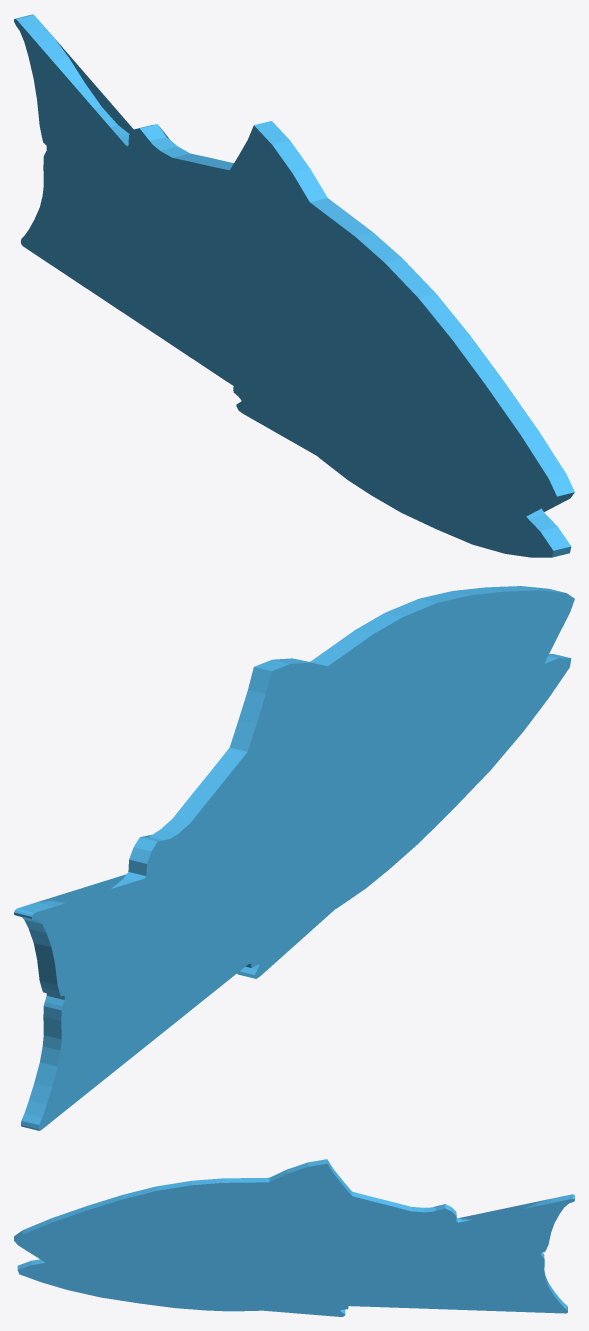
Rendered from salmon.fbx.
3 views of the same model, one above another, from view 1: azimuth 30°, elevation 25°; view 2: azimuth 150°, elevation 25°; view 3: azimuth 270°, elevation 25° (orthographic). The views are drawn at different scales.
Parts seen in each view (by area): view 1: Plan.008; view 2: Plan.008; view 3: Plan.008.
Part boxes in pixels (left/top/right/bottom): Plan.008: left=14, top=14, right=574, bottom=557; Plan.008: left=14, top=586, right=574, bottom=1130; Plan.008: left=14, top=1159, right=574, bottom=1316.
Size of the model in its own units: 8.62 by 136 by 452.
